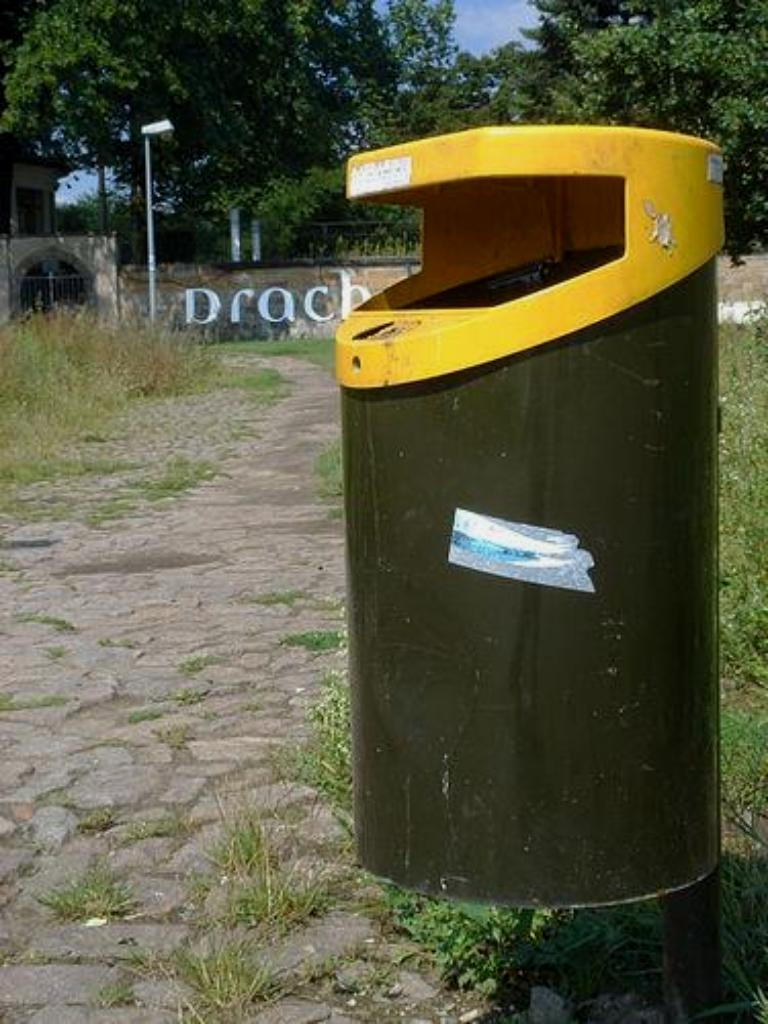dustbin: (314, 118, 747, 927)
